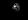person: (13, 3, 21, 16)
